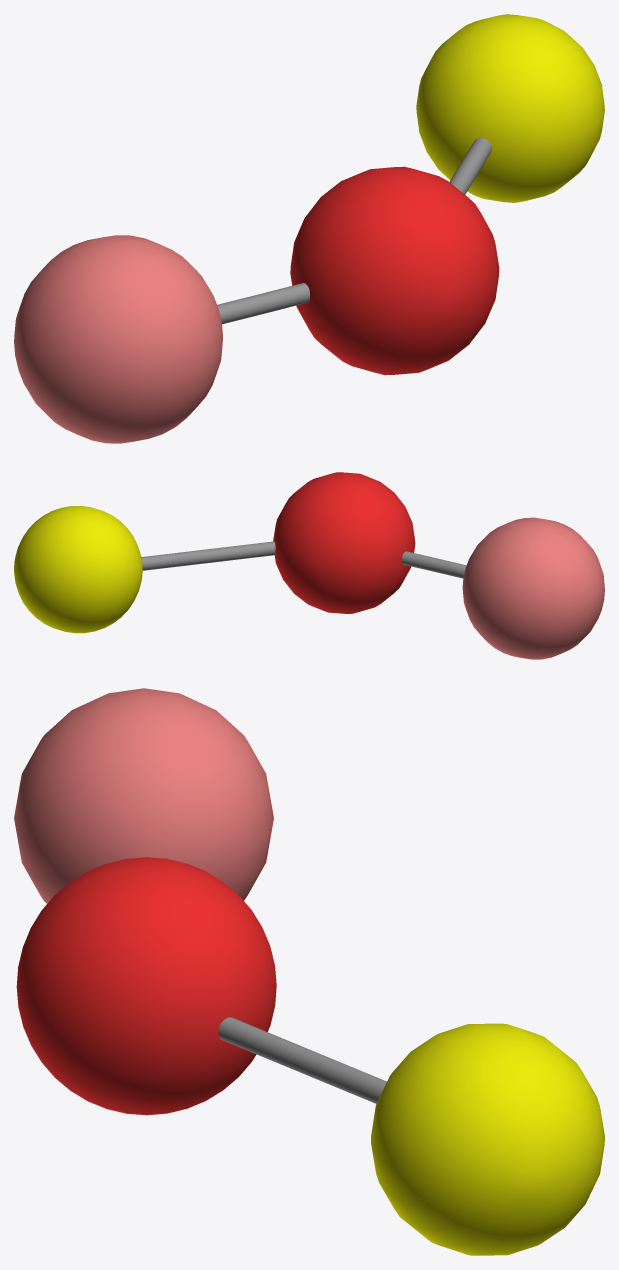
File: HOF.fbx
3 renders of one model, top to bottom at view 1: azimuth 30°, elevation 25°; view 2: azimuth 150°, elevation 25°; view 3: azimuth 270°, elevation 25°, orthographic. The views are drawn at different scales.
Parts seen in each view (by area): view 1: HOF; view 2: HOF; view 3: HOF.
Boxes of the visible parts, x1,y1,x2,y2 form: HOF: (14, 14, 604, 443); HOF: (14, 472, 604, 659); HOF: (14, 688, 604, 1255).
Bounding box in the file's own units: 7.16 × 1.85 × 4.2.
